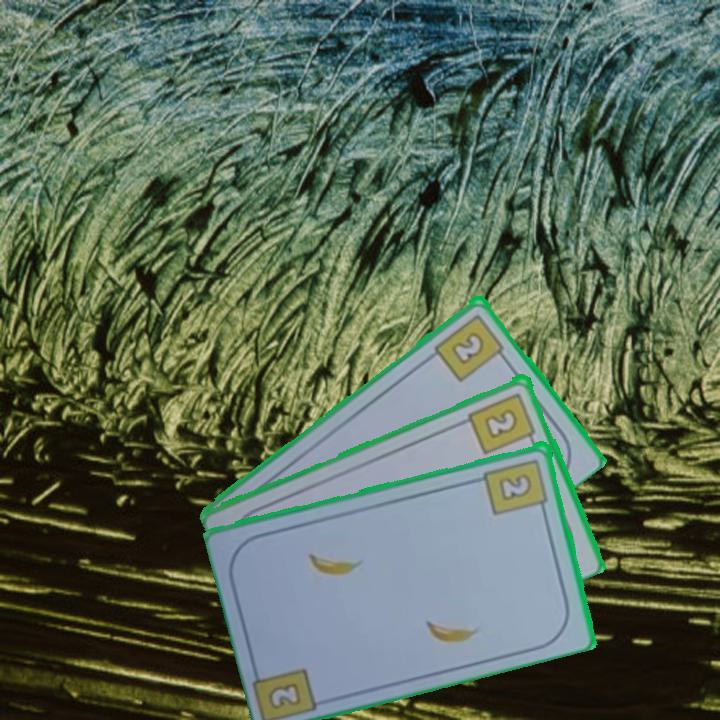2b: (431, 309, 511, 385), (465, 389, 539, 457), (481, 454, 552, 518), (268, 681, 301, 709)
